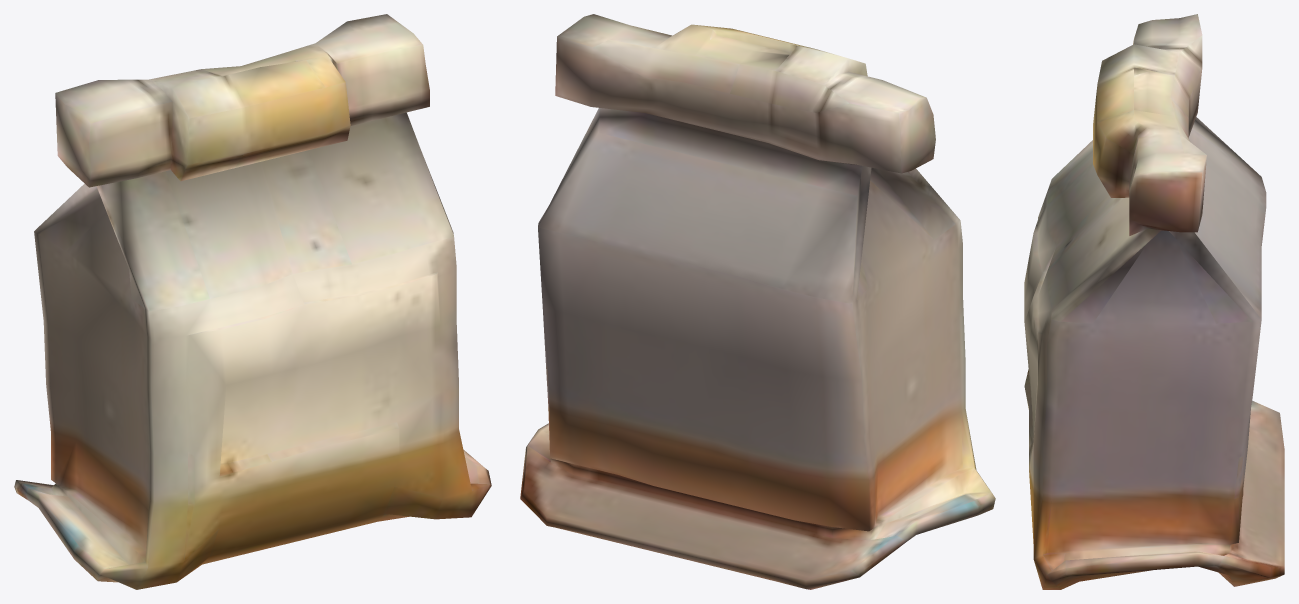
File: rice.glb
3 renders of one model, left to right at view 1: azimuth 30°, elevation 25°; view 2: azimuth 150°, elevation 25°; view 3: azimuth 270°, elevation 25°, orthographic. The views are drawn at different scales.
Visible parts, largest first — view 1: Rice; view 2: Rice; view 3: Rice.
Part boxes in pixels (x1=…): Rice: x1=14, y1=14, x2=491, y2=589; Rice: x1=520, y1=14, x2=995, y2=589; Rice: x1=1024, y1=14, x2=1284, y2=589.
Size of the model in its own units: 1.45 by 1.65 by 0.88.
1 material, 1 textured.
